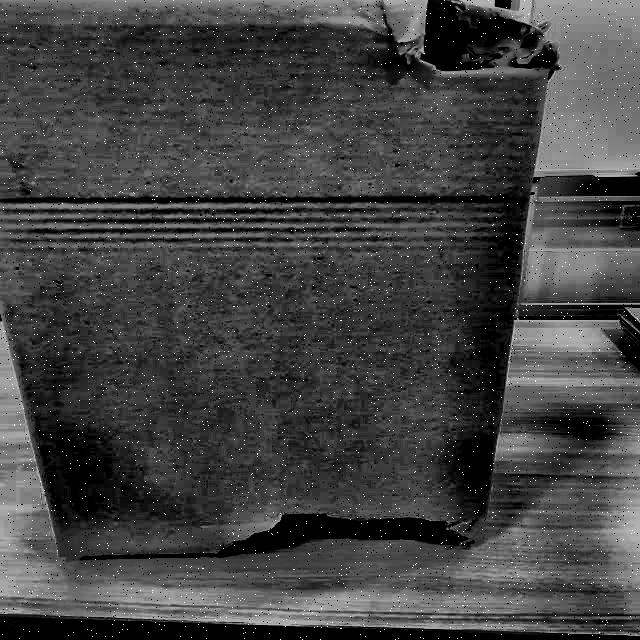box: (1, 0, 560, 565)
hole: (200, 501, 480, 560), (393, 0, 554, 84)
